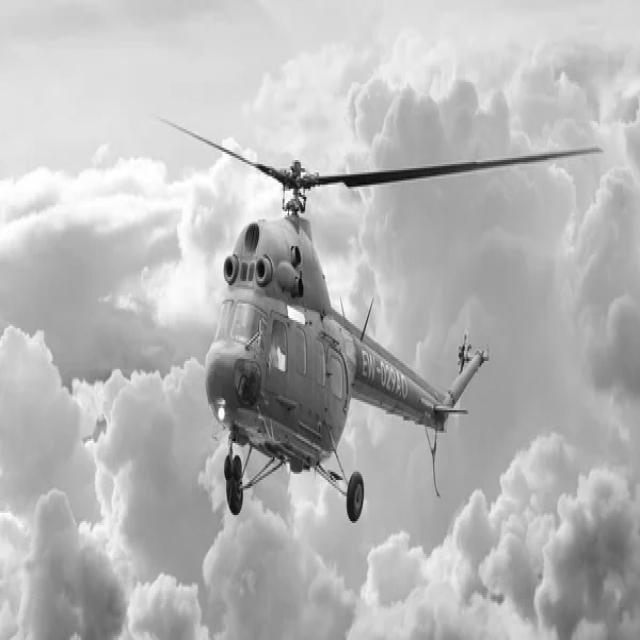Helicopter: (164, 119, 605, 522)
